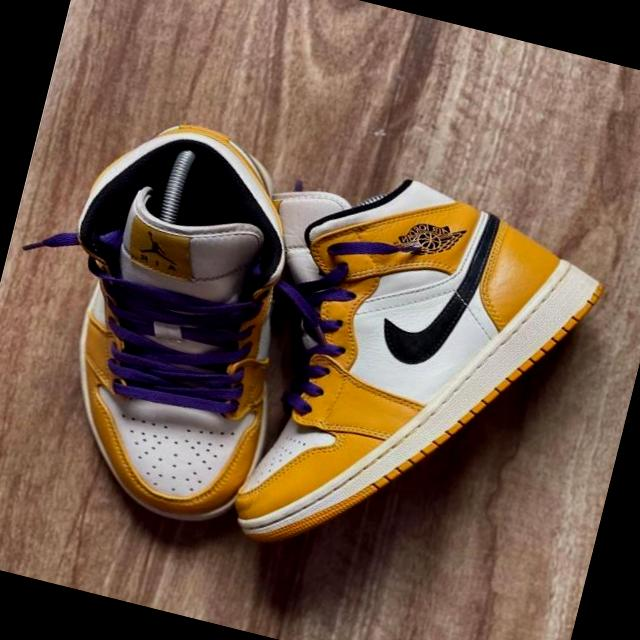nike_original_jordan: (225, 154, 620, 604), (0, 97, 335, 539)
